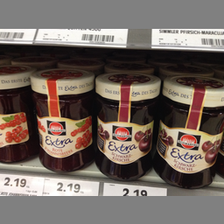jam: (156, 75, 224, 189), (95, 72, 162, 182), (30, 67, 94, 174), (1, 64, 36, 164)
